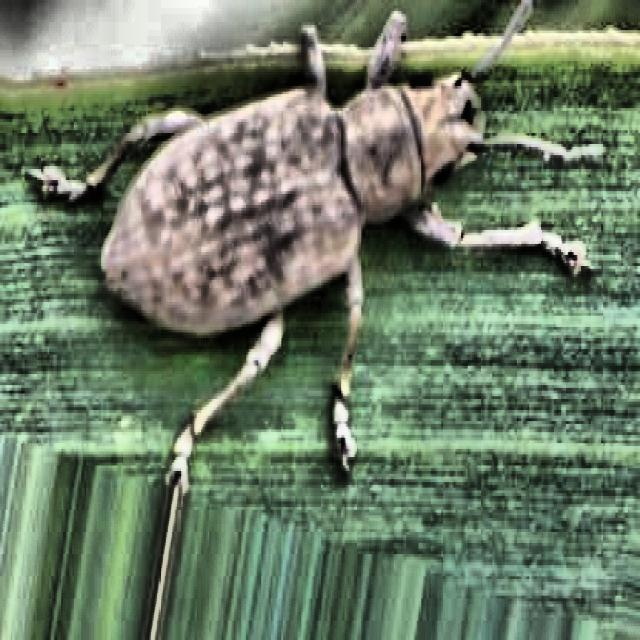Stink bug: (58, 8, 592, 440)
